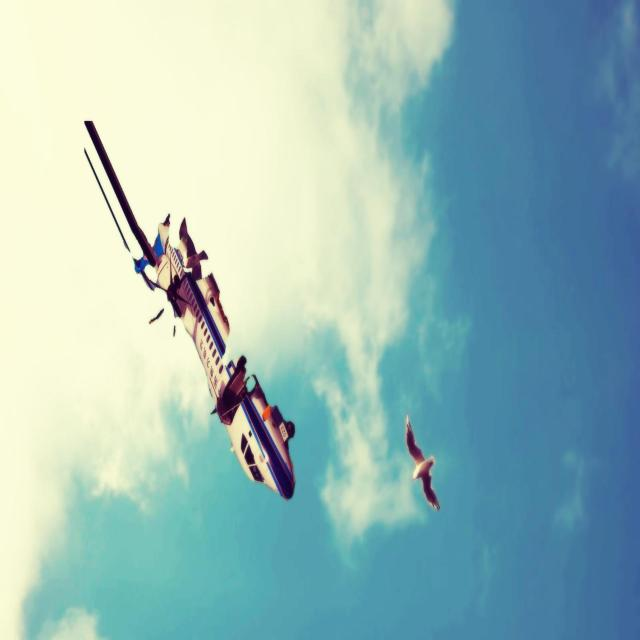airplane: (83, 118, 296, 501)
